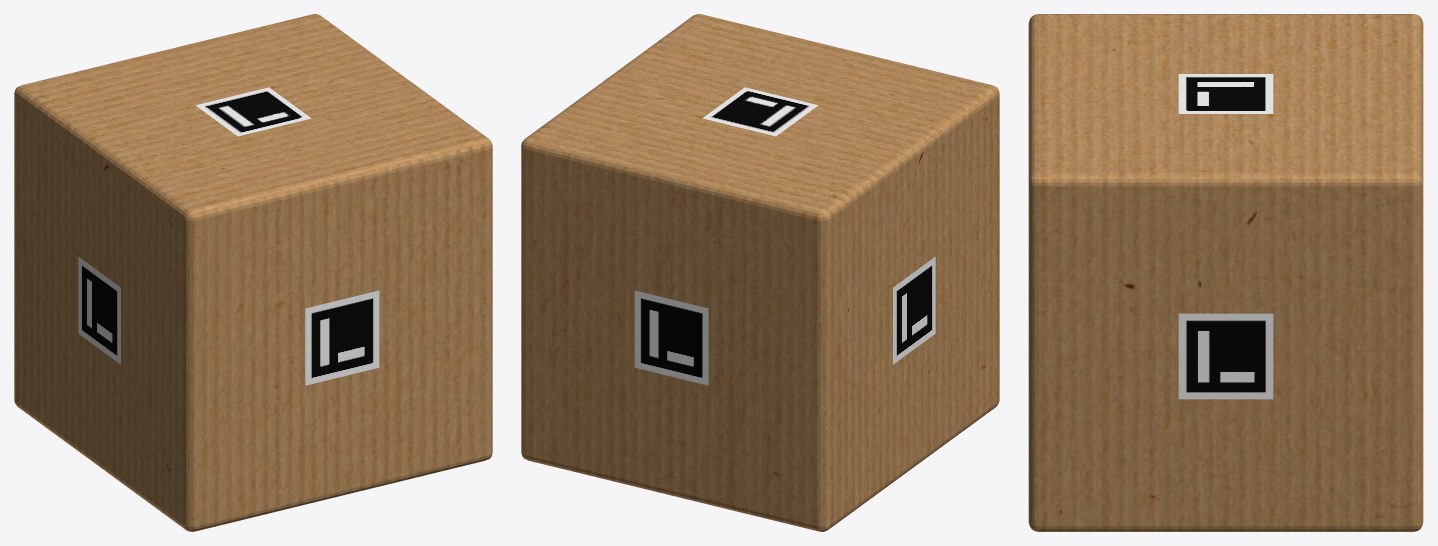
3 views of the same model, side by side, from view 1: azimuth 30°, elevation 25°; view 2: azimuth 150°, elevation 25°; view 3: azimuth 270°, elevation 25° (orthographic). The views are drawn at different scales.
Visible parts, largest first — view 1: Cube.001, drawing-2.002, drawing-2.003, drawing-2.005; view 2: Cube.001, drawing-2.004, drawing-2.003, drawing-2.005; view 3: Cube.001, drawing-2.001, drawing-2.005.
Boxes of the visible parts, box(x1,y1,x2,y2) form: Cube.001: box(14, 14, 492, 531); drawing-2.002: box(305, 290, 379, 385); drawing-2.003: box(78, 256, 120, 364); drawing-2.005: box(196, 87, 311, 136); Cube.001: box(521, 14, 999, 531); drawing-2.004: box(634, 290, 708, 385); drawing-2.003: box(893, 256, 935, 364); drawing-2.005: box(702, 87, 818, 136); Cube.001: box(1028, 14, 1423, 531); drawing-2.001: box(1178, 313, 1273, 399); drawing-2.005: box(1178, 74, 1273, 113).
Size of the model in its own units: 0.5005 by 0.5005 by 0.5005.
Materials: 2 (2 with a texture image).
